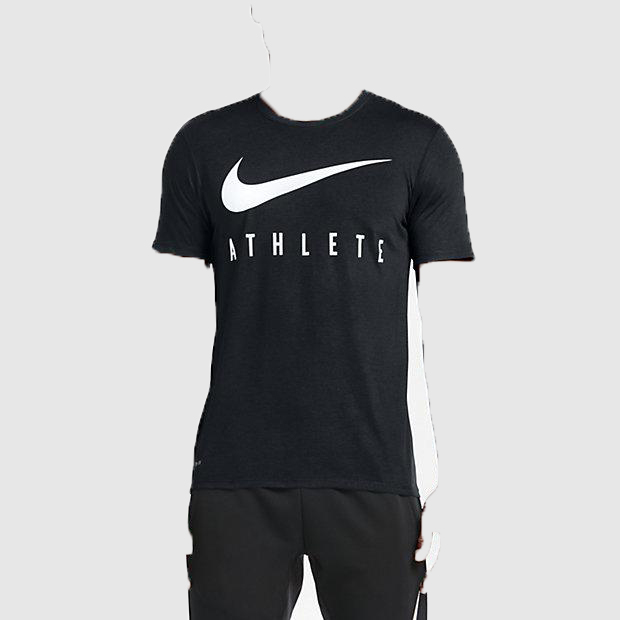teeshirt: (147, 86, 478, 506)
